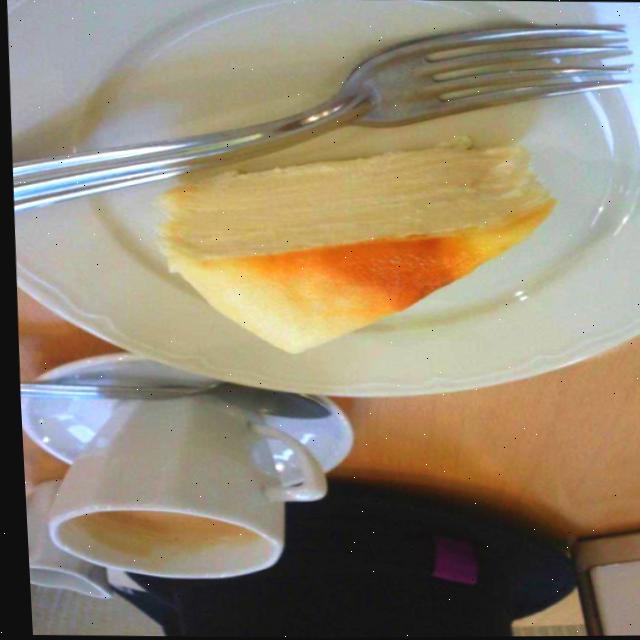猪肉菜式: (85, 0, 638, 625)
